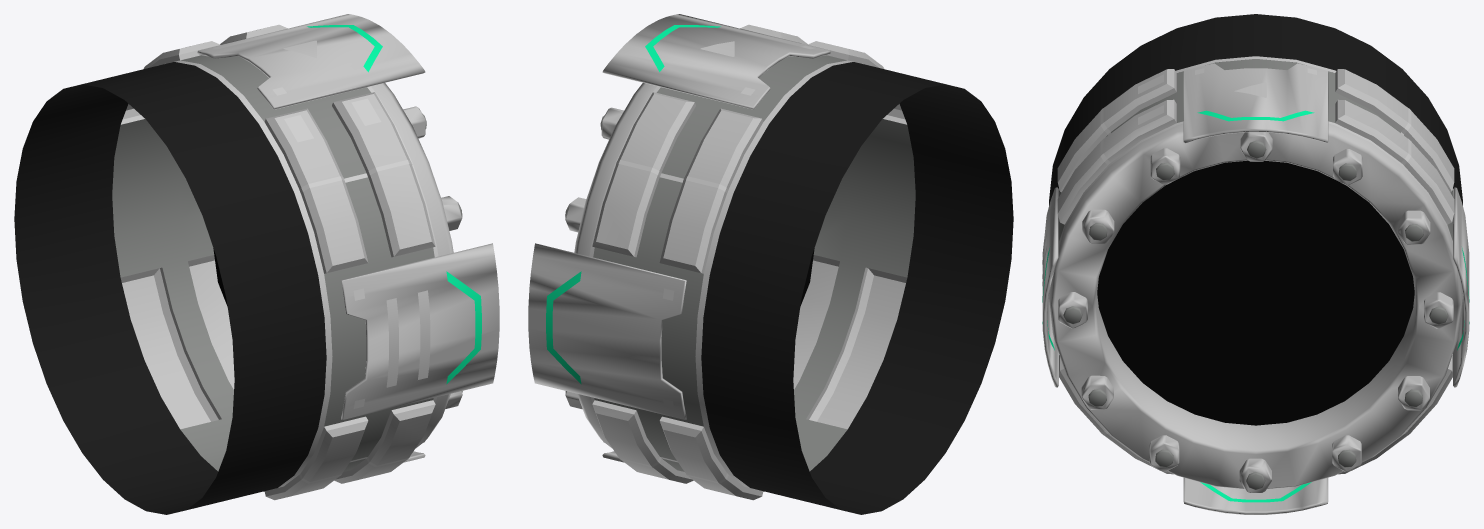
Rendered from FactoryPipe_Out.obj.
The picture shows the model from 3 angles, left to right: view 1: azimuth 30°, elevation 25°; view 2: azimuth 150°, elevation 25°; view 3: azimuth 270°, elevation 25°; orthographic projection. The views are drawn at different scales.
Parts seen in each view (by area): view 1: FactoryPipe_Out; view 2: FactoryPipe_Out; view 3: FactoryPipe_Out.
Boxes of the visible parts, x1,y1,x2,y2 form: FactoryPipe_Out: (14, 14, 499, 514); FactoryPipe_Out: (528, 14, 1013, 514); FactoryPipe_Out: (1042, 14, 1469, 514).
Bounding box in the file's own units: 134 × 203 × 201.
